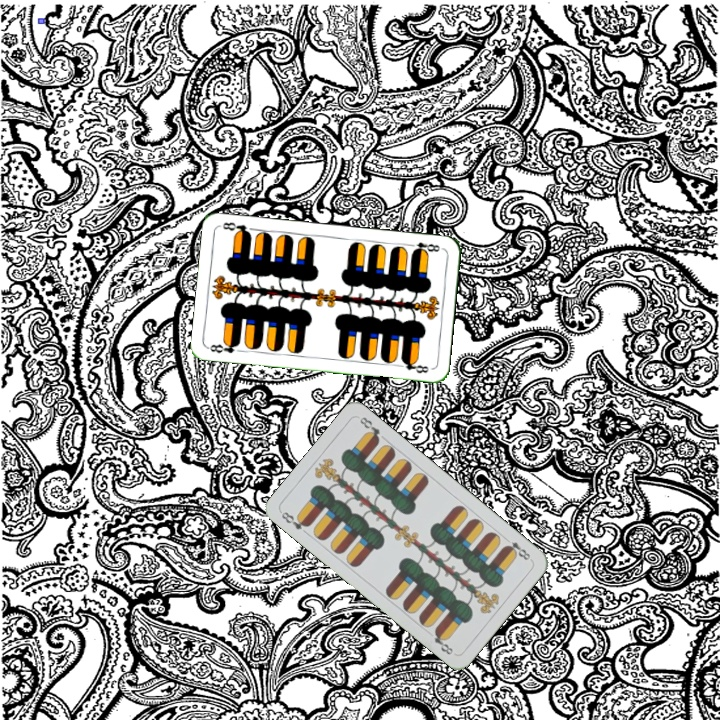E8: (501, 533, 534, 563), (277, 507, 312, 532), (405, 238, 445, 256), (205, 338, 242, 356)
